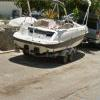Boat: (8, 7, 91, 64)
